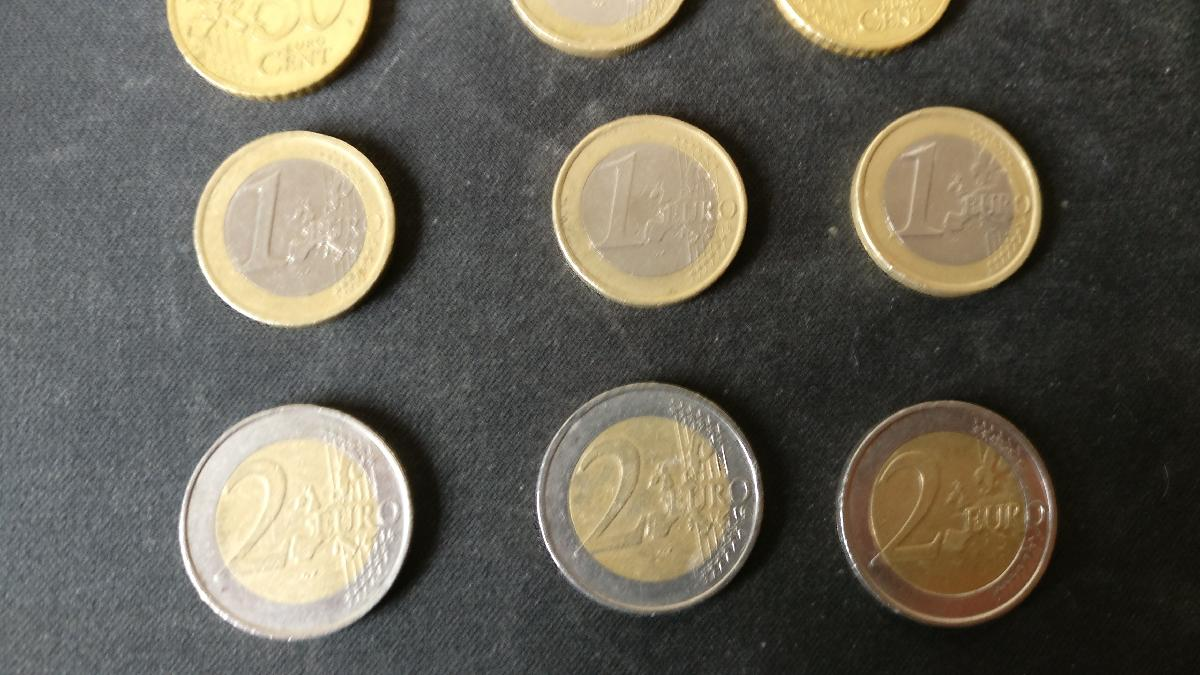Fifty Cent: (165, 1, 377, 101), (776, 1, 962, 60)
One Euro: (191, 129, 396, 329), (552, 114, 749, 308), (849, 104, 1043, 296), (511, 1, 696, 57)
Two Euro: (175, 401, 415, 642), (537, 381, 766, 617), (835, 399, 1058, 626)
